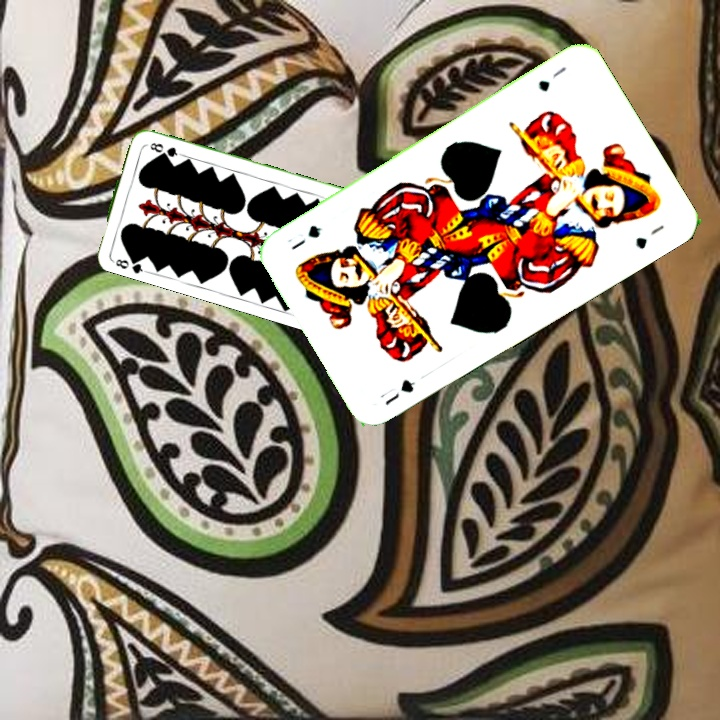G8: (108, 252, 147, 276)
GU: (375, 375, 418, 408), (534, 62, 569, 95)
